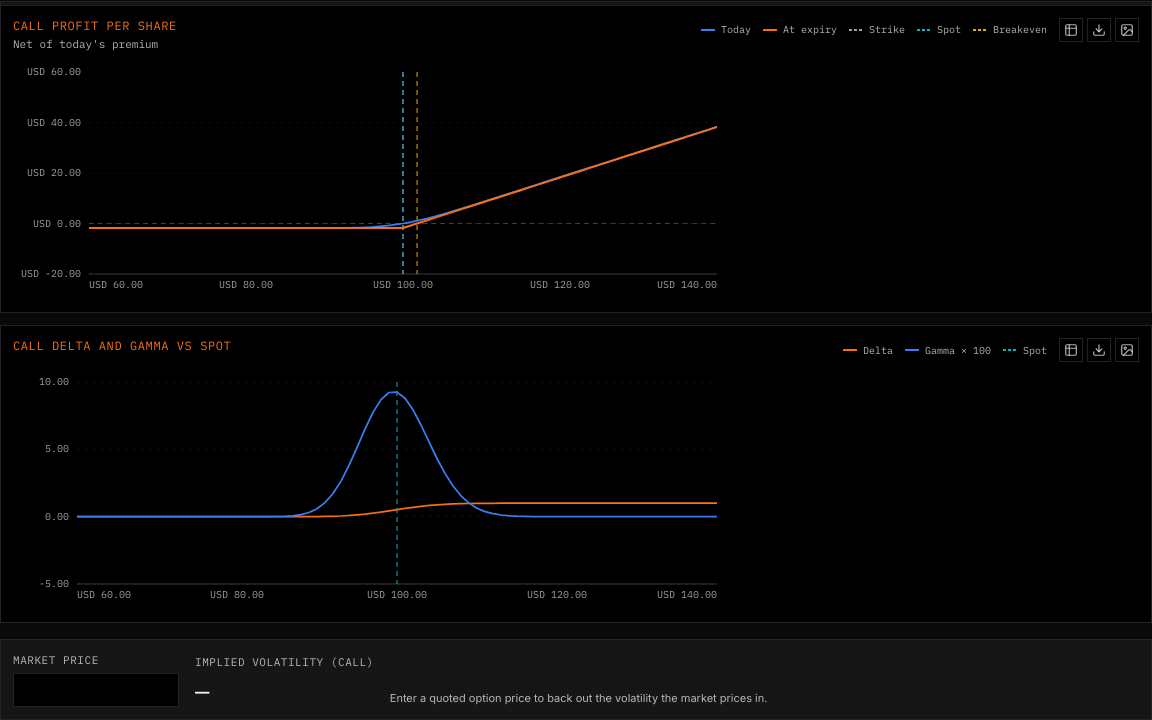
Test: OptionsSection › explains an implied-vol price below intrinsic value
The width and height of the screenshot is (1152, 720).
(page scrolled)
Type "0.1" into the number field labelled "Market price" at (96, 690), box [14, 674, 178, 706]
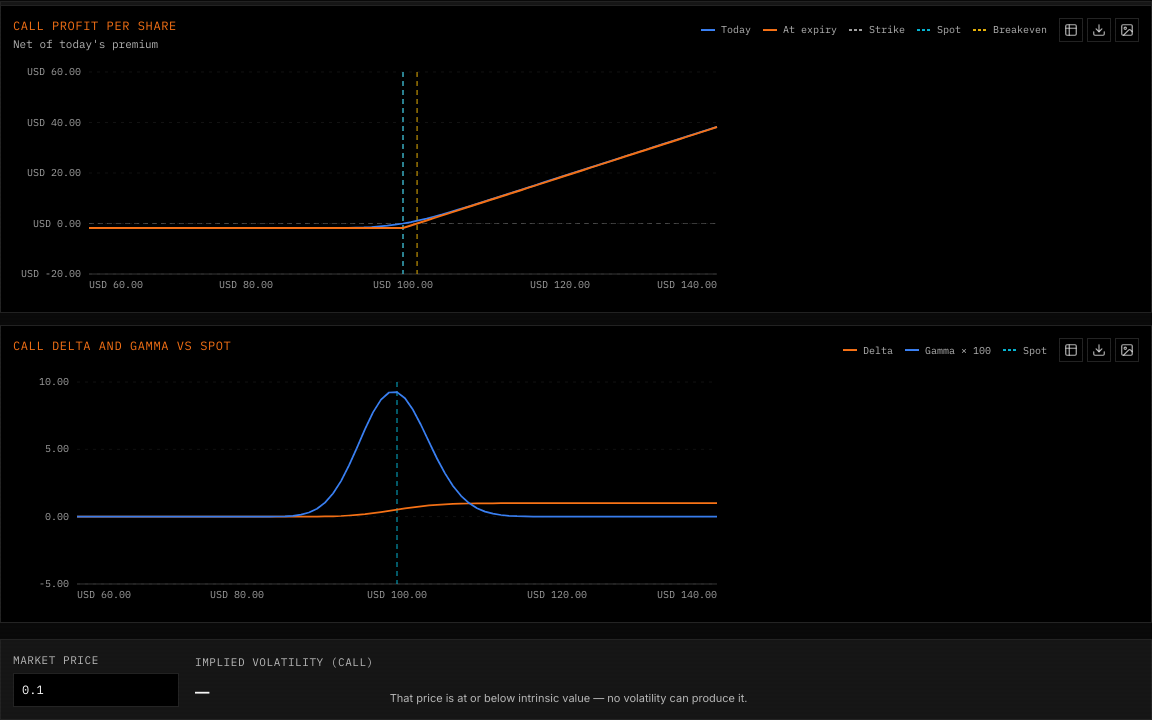
Result: the text "at or below intrinsic value" is shown at [390, 691, 748, 705]
